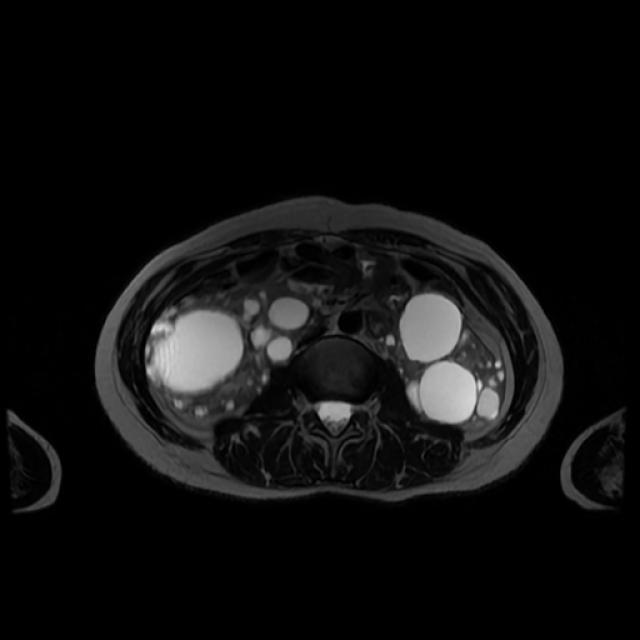sag: (145, 285, 314, 420)
sol: (394, 294, 505, 432)
